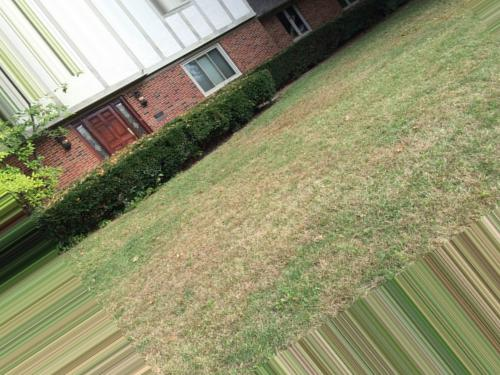patch: (130, 195, 294, 338), (263, 87, 350, 132)
